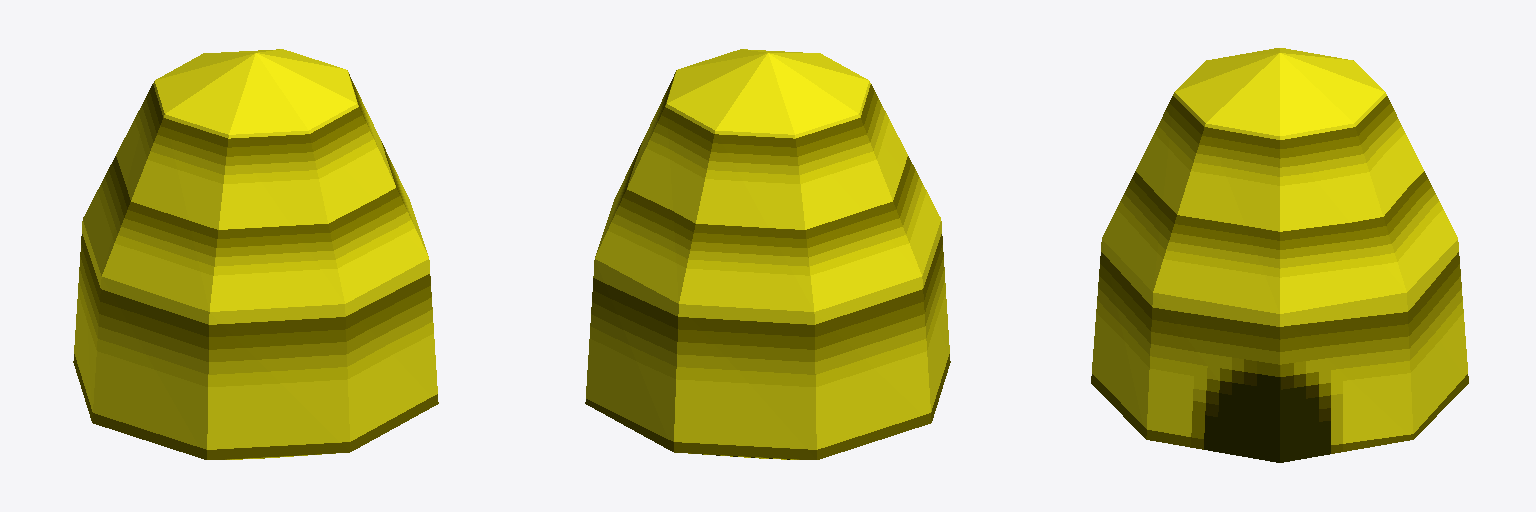
The picture shows the model from 3 angles: view 1: azimuth 30°, elevation 25°; view 2: azimuth 150°, elevation 25°; view 3: azimuth 270°, elevation 25°; orthographic projection.
Visible parts, largest first — view 1: FOR_HIVE; view 2: FOR_HIVE; view 3: FOR_HIVE.
Boxes of the visible parts, box(x1,y1,x2,y2) form: FOR_HIVE: box(73, 49, 438, 459); FOR_HIVE: box(585, 49, 950, 459); FOR_HIVE: box(1091, 48, 1468, 462).
Bounding box in the file's own units: 17.5 × 20.75 × 17.5.
Materials: 1 (1 with a texture image).